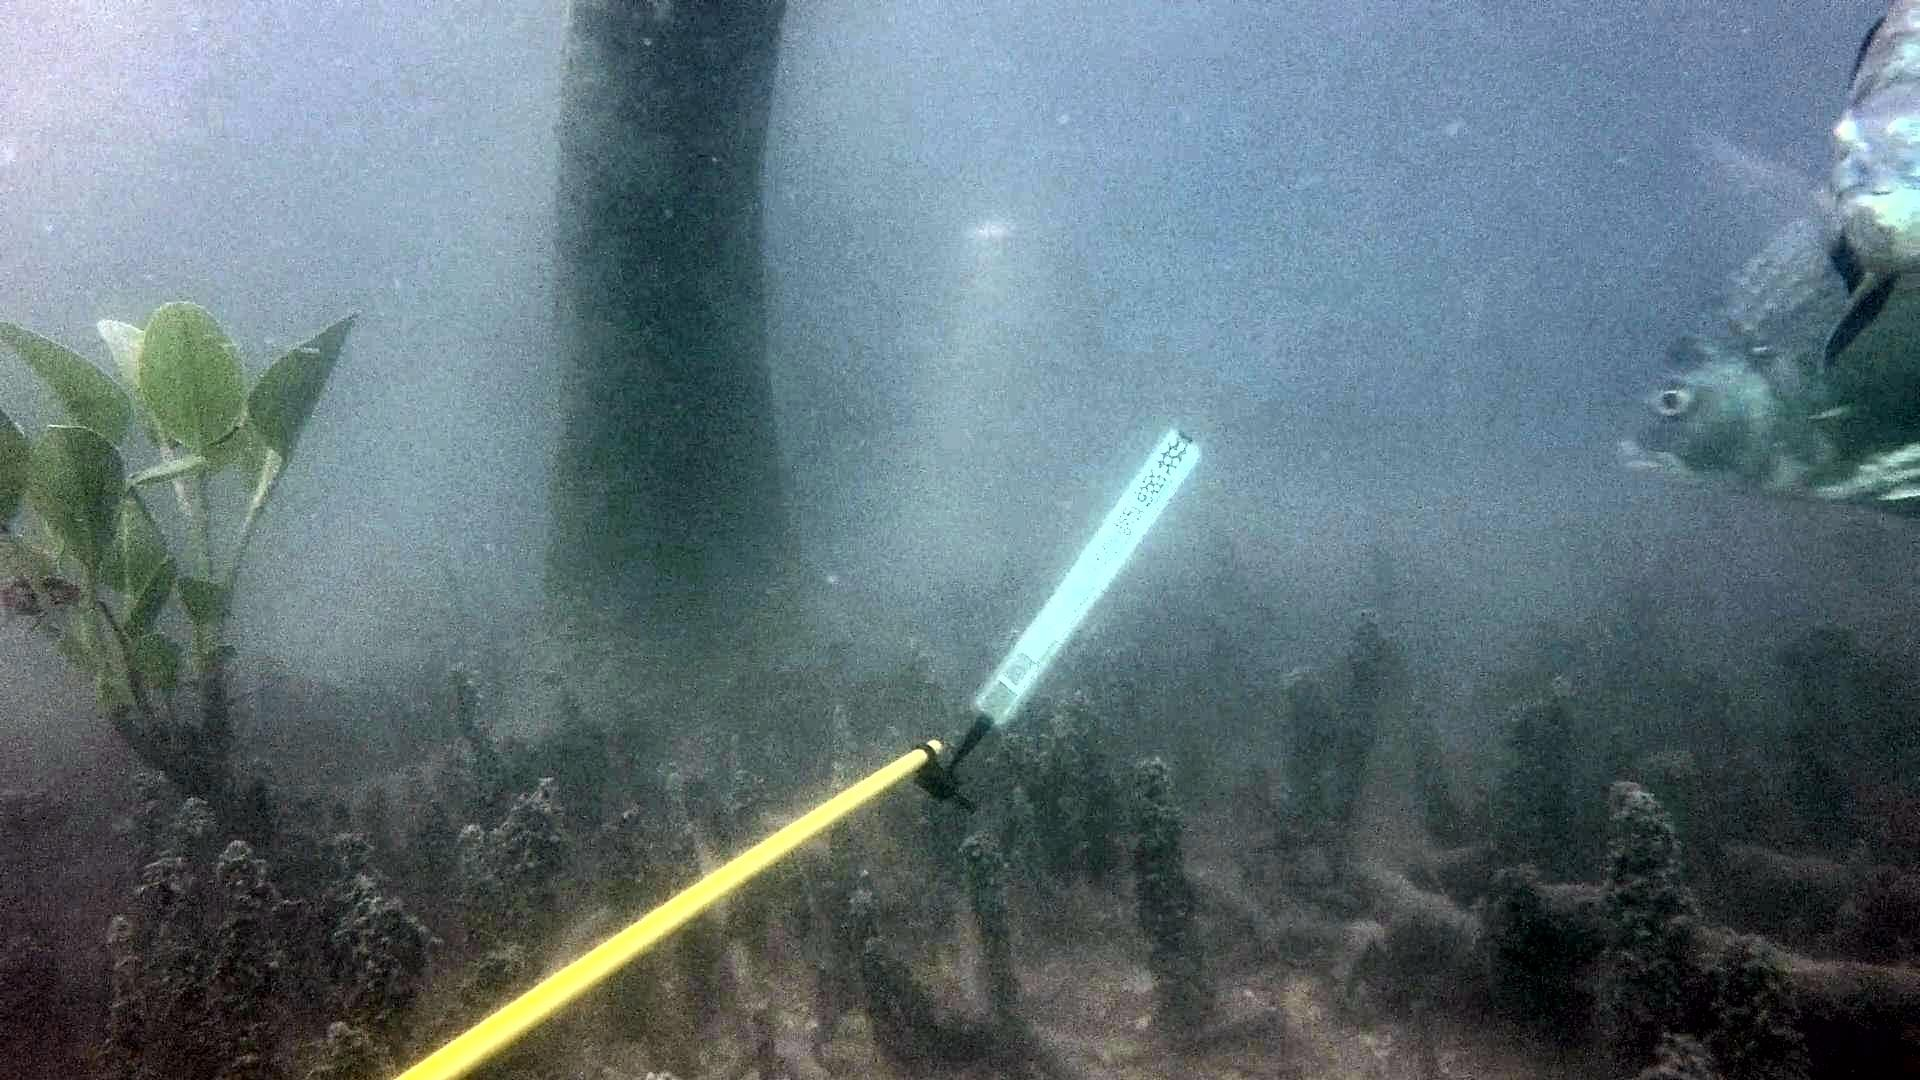acanthopagrus palmaris: (1597, 195, 1920, 530), (1688, 0, 1920, 375)
